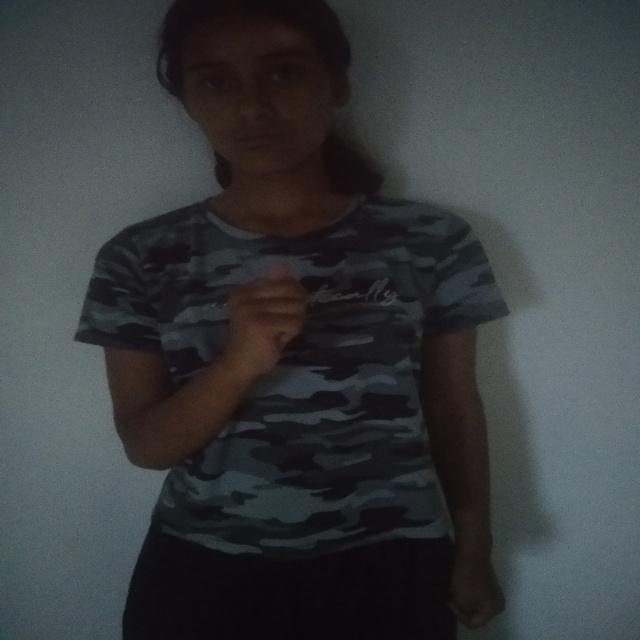Dulya: (212, 254, 312, 384)
